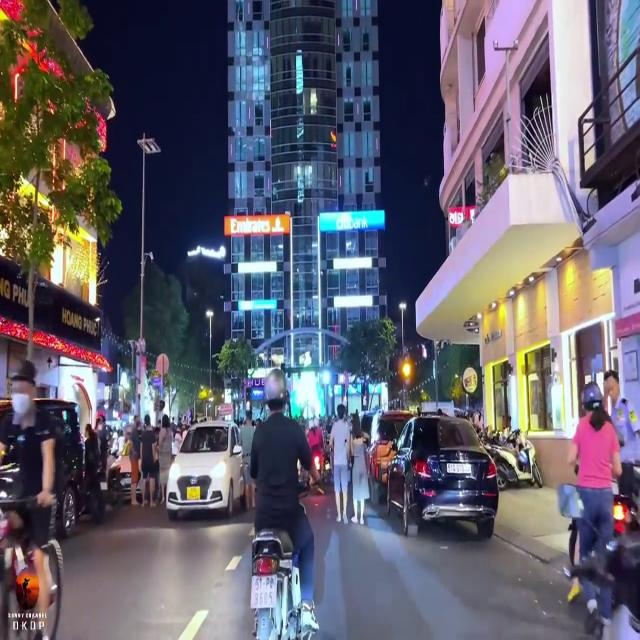bien_trang: (250, 574, 279, 612)
bien_vang: (186, 485, 200, 501)
